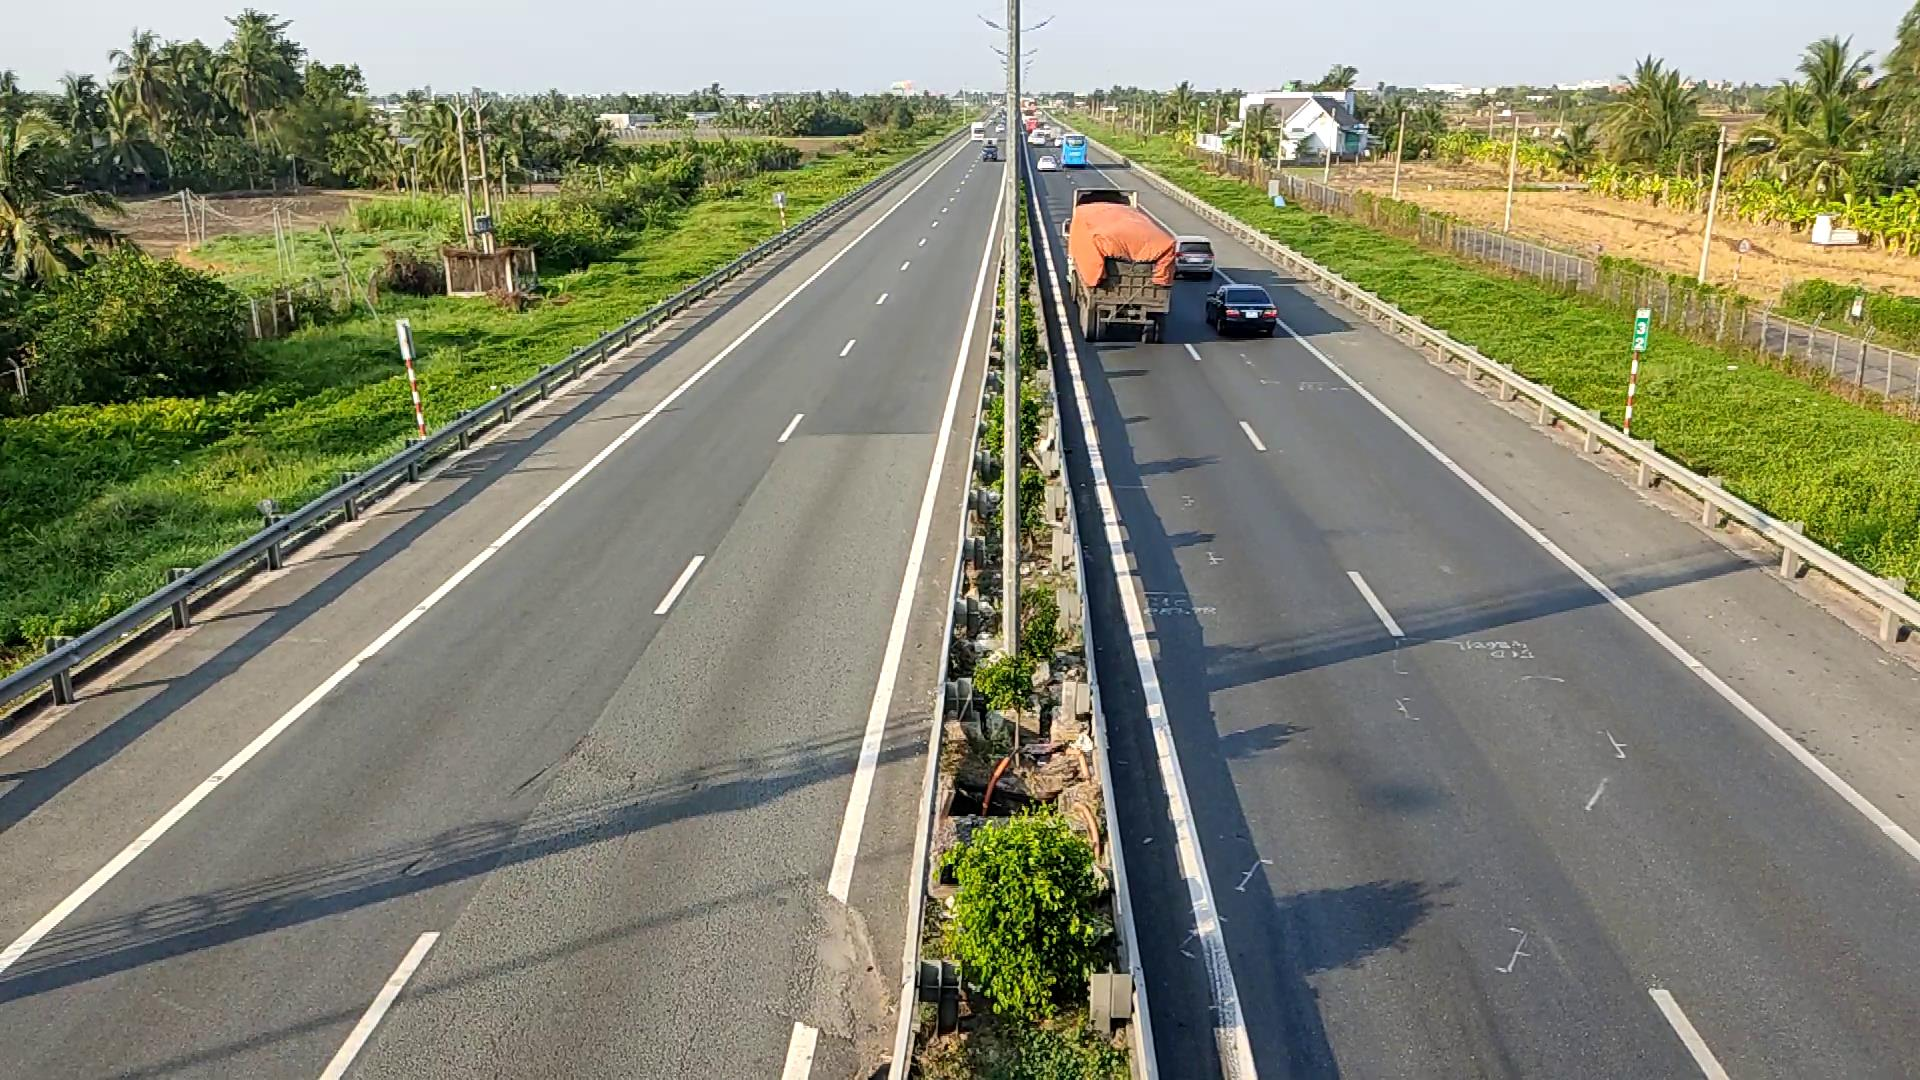car: (1203, 284, 1276, 338), (1174, 236, 1215, 277), (978, 141, 1000, 160)
truck: (1065, 187, 1182, 343)
